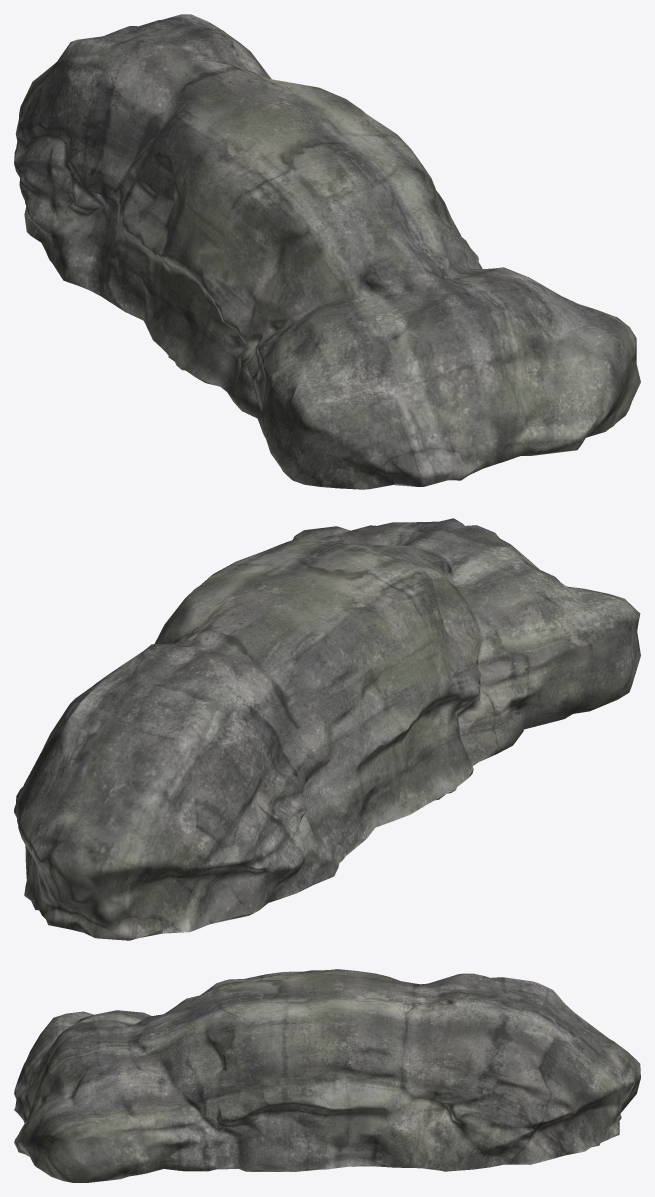
The model's file is SM_RockCliff_04.fbx.
3 views of the same model, one above another, from view 1: azimuth 30°, elevation 25°; view 2: azimuth 150°, elevation 25°; view 3: azimuth 270°, elevation 25° (orthographic). The views are drawn at different scales.
Parts seen in each view (by area): view 1: SM_RockCliff_04_LOD0; view 2: SM_RockCliff_04_LOD0; view 3: SM_RockCliff_04_LOD0.
Boxes of the visible parts, <box> form: SM_RockCliff_04_LOD0: <box>14,14,640,489</box>; SM_RockCliff_04_LOD0: <box>14,518,640,940</box>; SM_RockCliff_04_LOD0: <box>14,969,640,1182</box>.
Size of the model in its own units: 826 by 1807 by 453.
